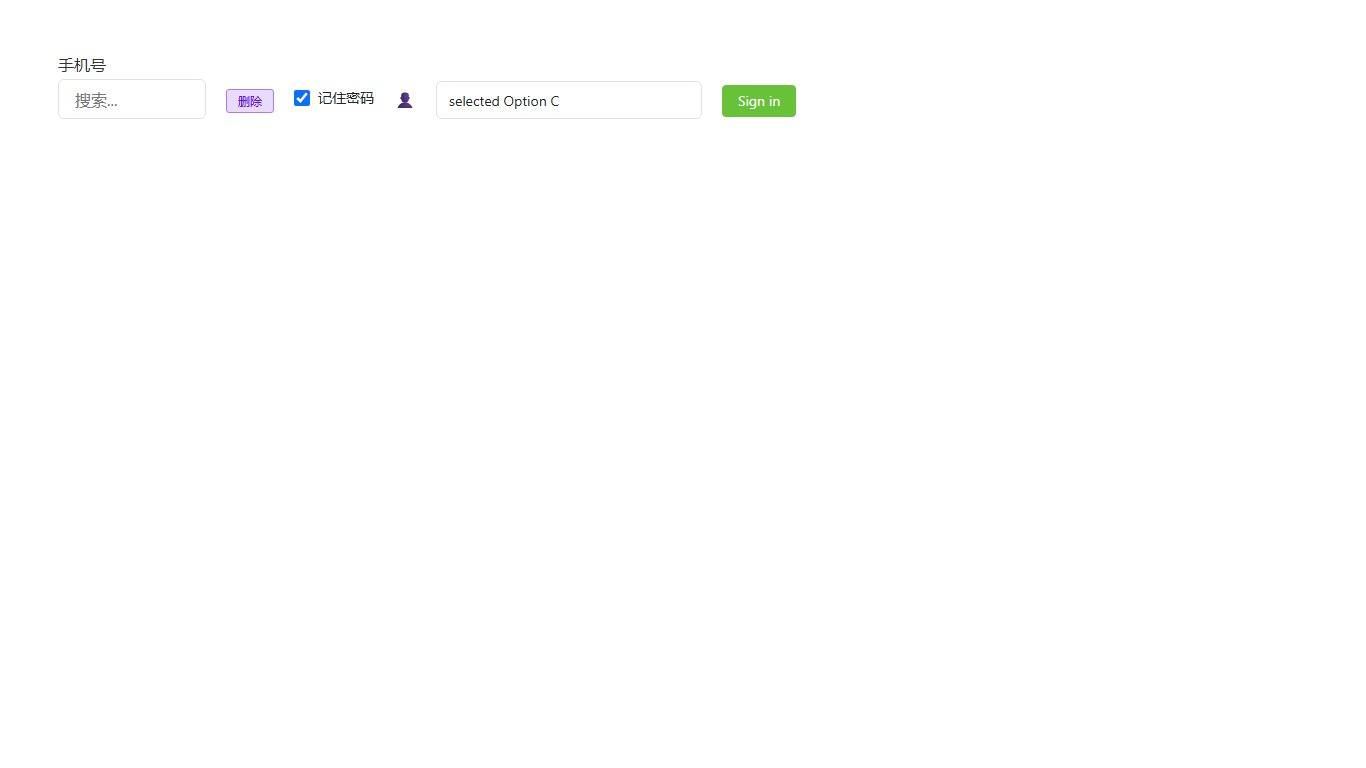button: (722, 84, 796, 116), (226, 88, 274, 112)
checkbox: (294, 90, 310, 105)
icon: (318, 88, 374, 107), (394, 91, 416, 107)
input: (58, 79, 206, 119)
radio: (294, 88, 374, 107)
select: (436, 81, 702, 119)
